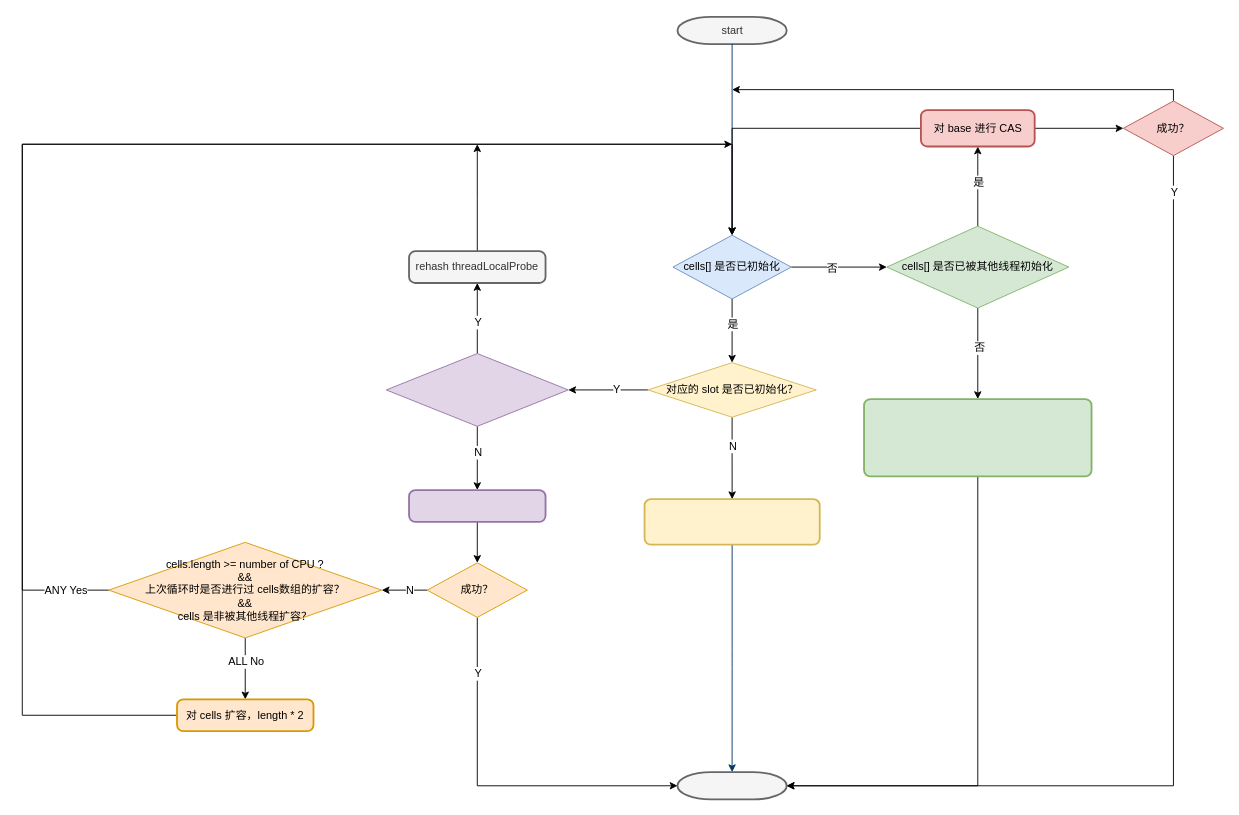
This 1239x815 diagram has some shape labels left out. The shapes that lost their labels are listed below. From the top down, each one's centre as x and y in pixels, then its label:
the point at 476,389: 调用 longAccumulate 前有无发生过 CAS slot 的冲突？( wasUncontended ?= false )
the point at 977,437: 实例化 cells，并创建 cell 元素（构造器完成 value 的赋值）
the point at 477,505: 对对应的 slot 进行 CAS
the point at 731,521: 该 slot 未被其他线程初始化，则初始化 slot，并赋值，结束累加操作
the point at 731,785: end
